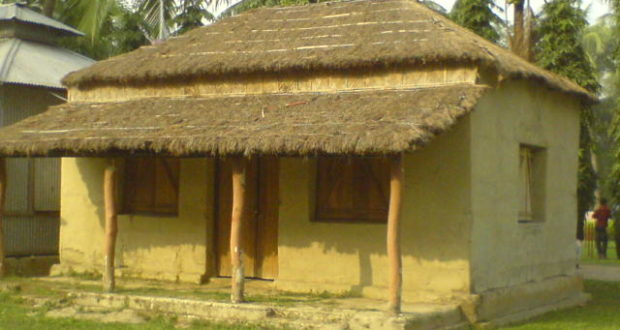Mud House: (21, 4, 590, 318)
